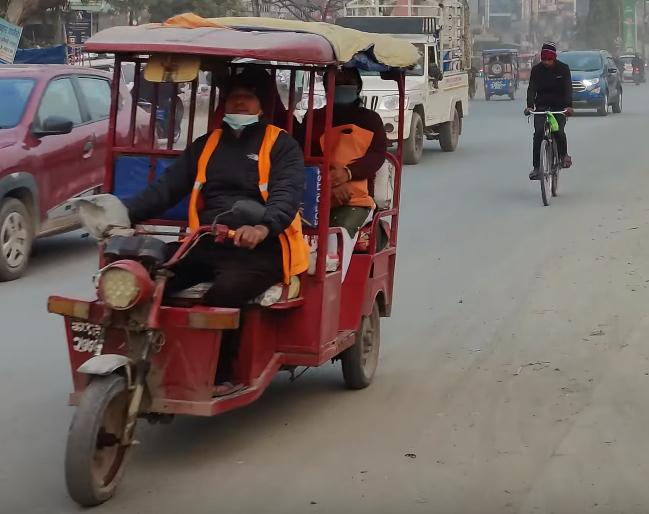e-rickshaw: (55, 8, 408, 514), (482, 46, 521, 101)
transport_vehicle: (306, 3, 472, 160)
